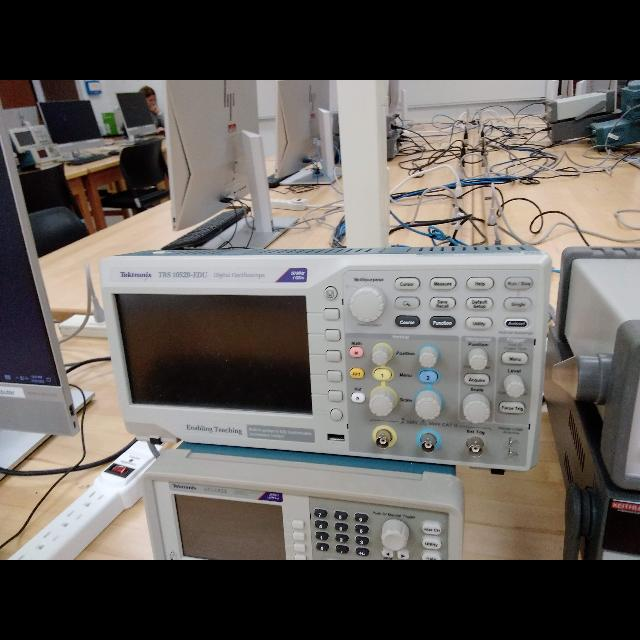Digital-Oscilloscope: (101, 258, 547, 469)
